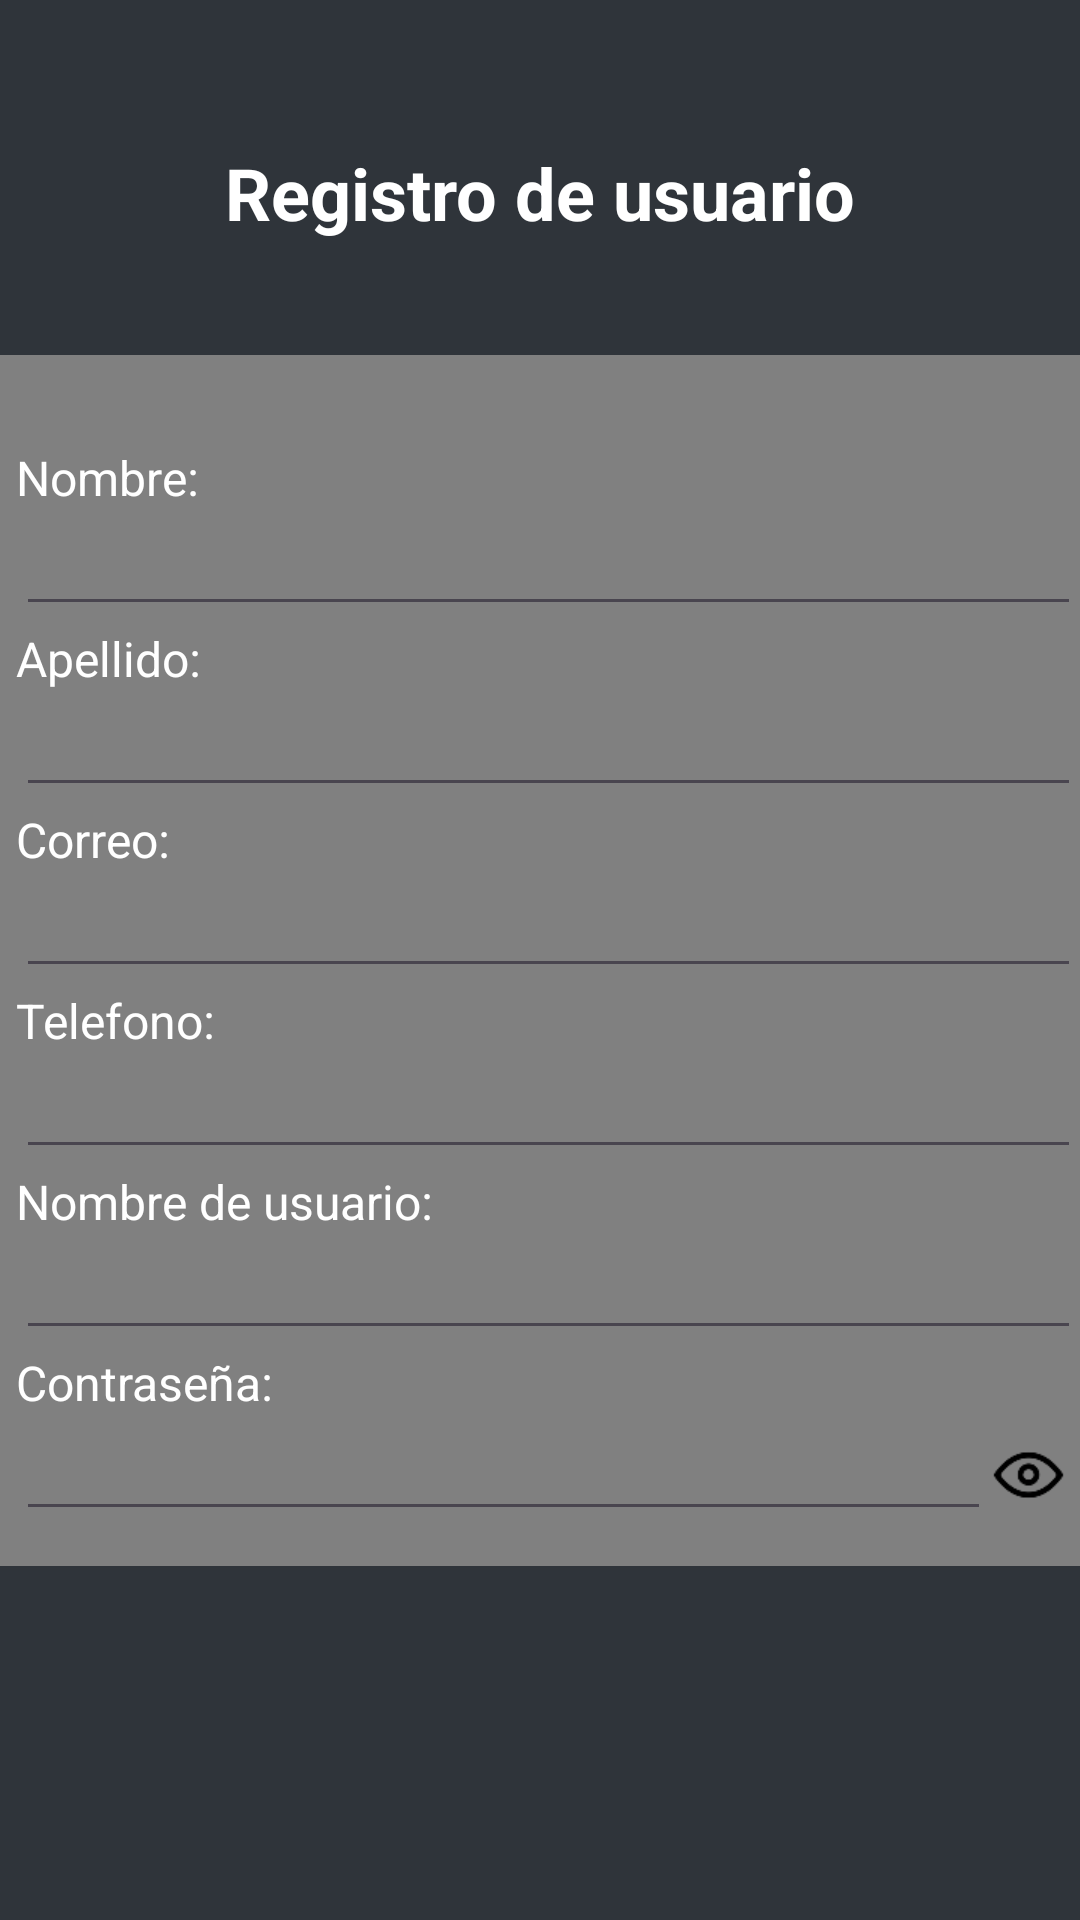

Locate icon controls on the screen. Image size 1080x1920, boxes as (x1, y1, x2, y2).
ojoabierto: (994, 1452, 1063, 1498)
